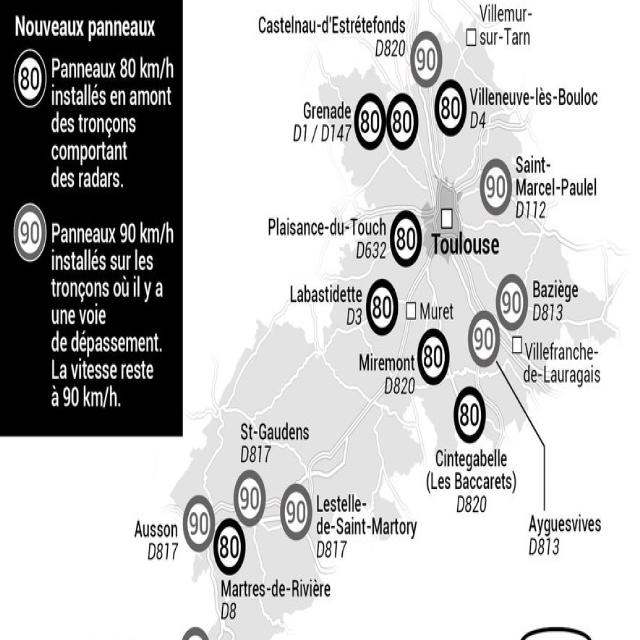speed: (14, 46, 48, 109), (453, 384, 486, 445), (496, 272, 528, 332), (435, 82, 469, 138), (281, 480, 313, 539), (480, 160, 514, 215), (468, 310, 499, 370), (366, 279, 397, 338), (390, 209, 422, 266), (411, 29, 442, 87), (233, 470, 264, 527), (213, 522, 246, 574), (14, 205, 45, 260), (418, 330, 448, 384), (354, 94, 384, 148), (388, 94, 416, 150), (185, 495, 211, 552)
